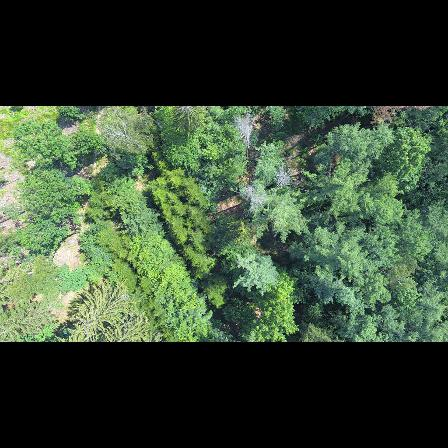Dead: (268, 165, 309, 191), (236, 112, 259, 154)
Sick: (174, 106, 201, 119)
